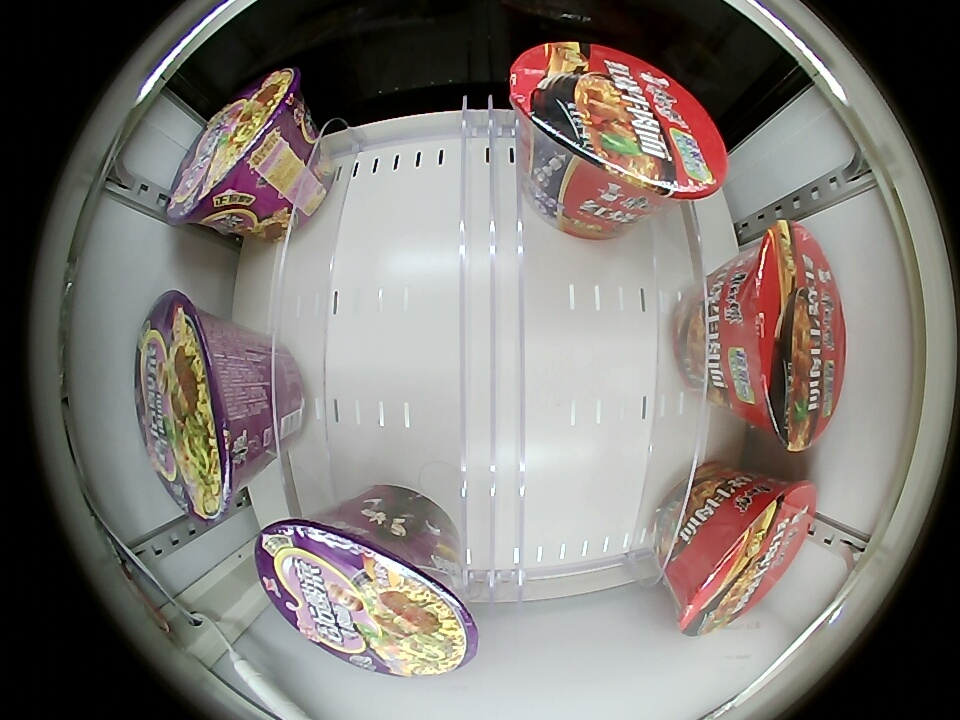hongshaoniurou: (510, 42, 728, 215), (704, 224, 846, 451), (671, 480, 817, 635)
laotansuancai: (256, 511, 478, 678), (135, 291, 253, 521), (165, 68, 307, 234)
